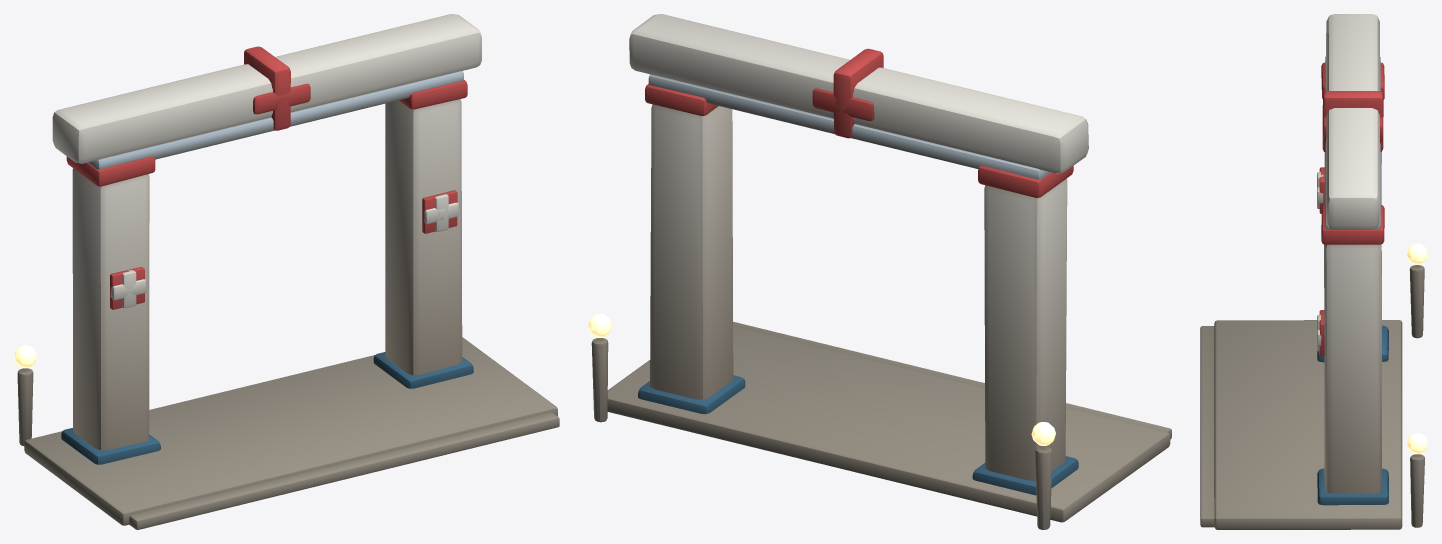
3 renders of one model, left to right at view 1: azimuth 30°, elevation 25°; view 2: azimuth 150°, elevation 25°; view 3: azimuth 270°, elevation 25°, orthographic. The views are drawn at different scales.
Visible parts, largest first — view 1: gate_9f058b15; view 2: gate_9f058b15; view 3: gate_9f058b15.
Boxes of the visible parts, x1,y1,x2,y2 form: gate_9f058b15: (14,14,559,529); gate_9f058b15: (588,14,1171,529); gate_9f058b15: (1200,14,1427,529).
Bounding box in the file's own units: 5.29 × 4.19 × 2.55.
